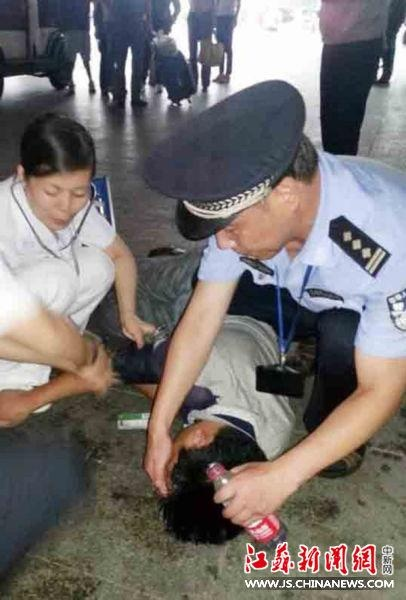falling: (108, 220, 301, 560)
